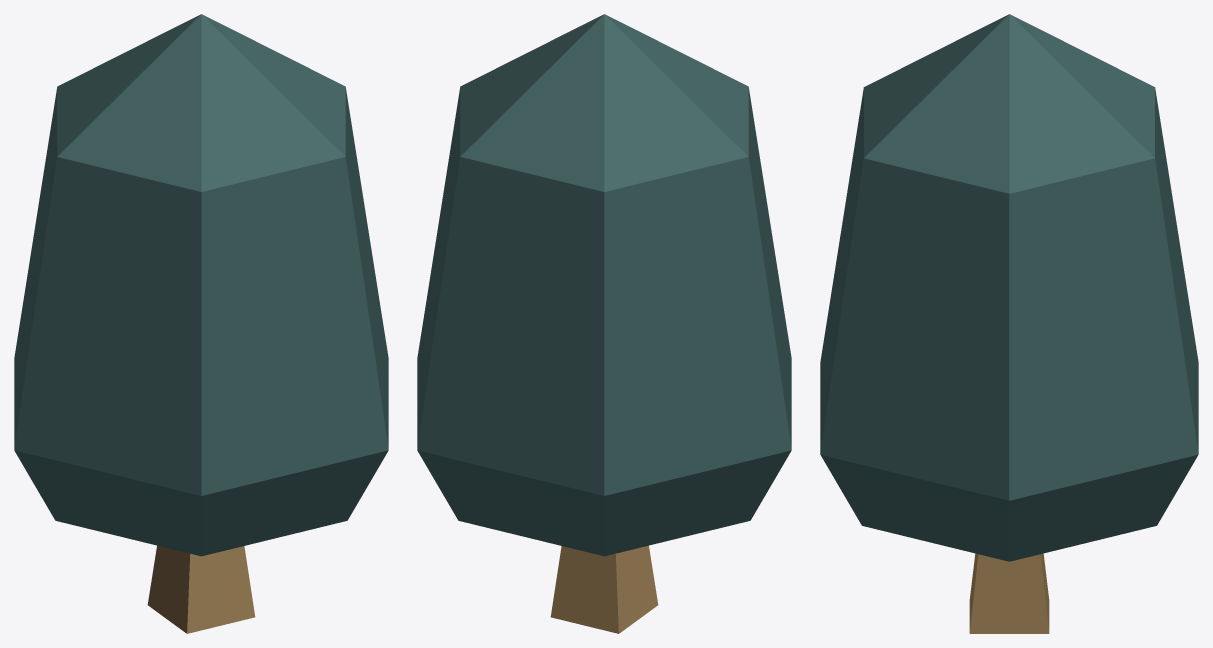
Rendered from Large_Oak_Dark_01.obj.
3 renders of one model, left to right at view 1: azimuth 30°, elevation 25°; view 2: azimuth 150°, elevation 25°; view 3: azimuth 270°, elevation 25°, orthographic.
Parts seen in each view (by area): view 1: Mesh1 Large_Oak_Dark Model; view 2: Mesh1 Large_Oak_Dark Model; view 3: Mesh1 Large_Oak_Dark Model.
Boxes of the visible parts, left/top/right/bottom form: Mesh1 Large_Oak_Dark Model: left=14, top=14, right=388, bottom=633; Mesh1 Large_Oak_Dark Model: left=417, top=14, right=791, bottom=633; Mesh1 Large_Oak_Dark Model: left=820, top=14, right=1198, bottom=633.
Bounding box in the file's own units: 3.02 × 4.6 × 2.62.
Materials: 1 (1 with a texture image).
